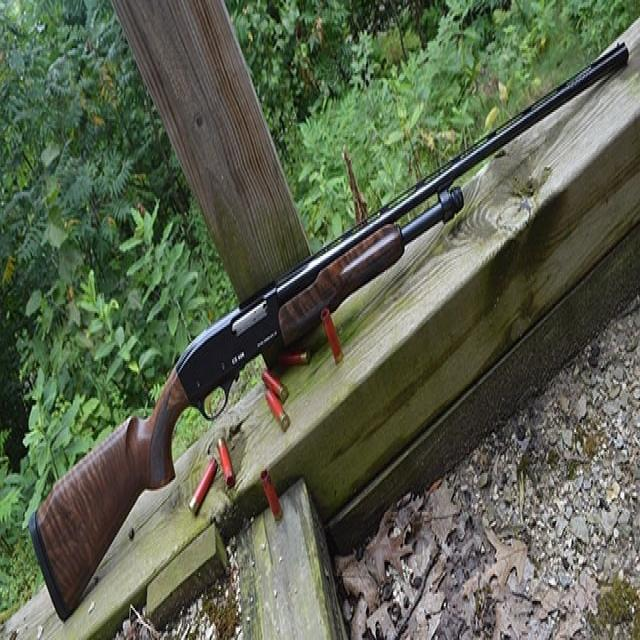ShotGun: (30, 37, 632, 615)
